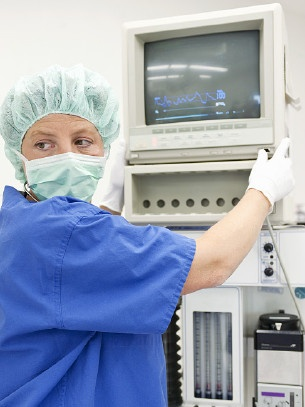Mask: (24, 119, 113, 208)
